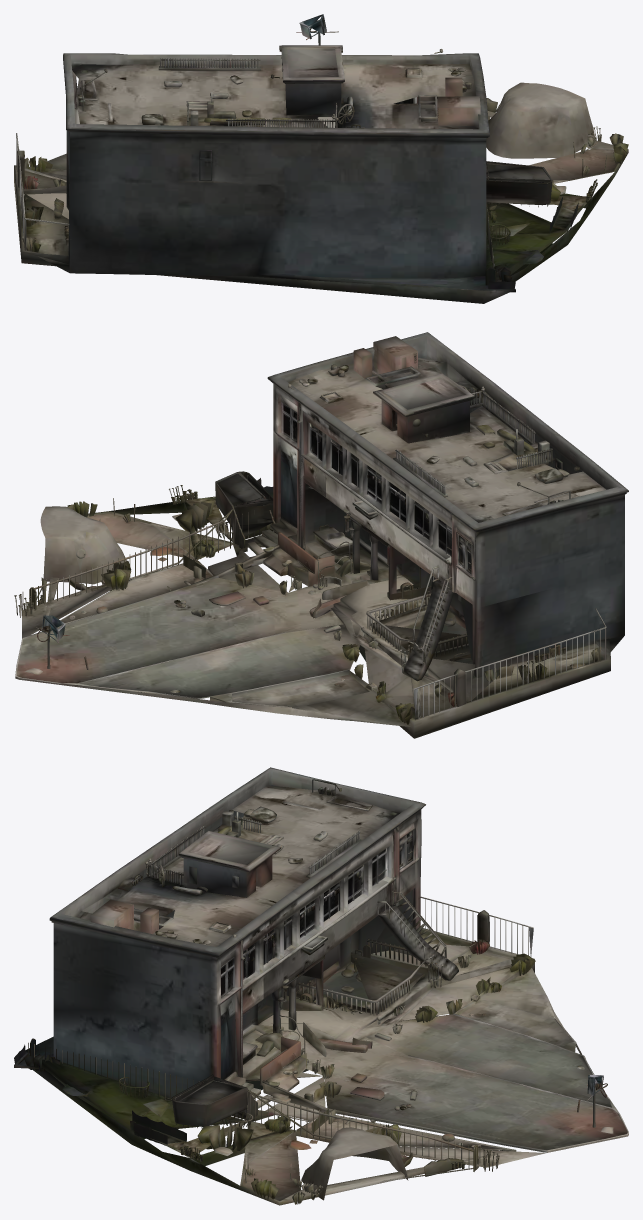
The model's file is school.glb.
The picture shows the model from 3 angles, top to bottom: view 1: azimuth 30°, elevation 25°; view 2: azimuth 150°, elevation 25°; view 3: azimuth 270°, elevation 25°; orthographic projection.
Visible parts, largest first — view 1: tripo_node_7d4a3761-df43-4c91-8c65-3f976890916a; view 2: tripo_node_7d4a3761-df43-4c91-8c65-3f976890916a; view 3: tripo_node_7d4a3761-df43-4c91-8c65-3f976890916a.
Boxes of the visible parts, x1,y1,x2,y2 form: tripo_node_7d4a3761-df43-4c91-8c65-3f976890916a: [14, 14, 628, 303]; tripo_node_7d4a3761-df43-4c91-8c65-3f976890916a: [14, 332, 628, 738]; tripo_node_7d4a3761-df43-4c91-8c65-3f976890916a: [14, 767, 628, 1205].
Bounding box in the file's own units: 37.16 × 12 × 34.26.
Materials: 1 (1 with a texture image).
